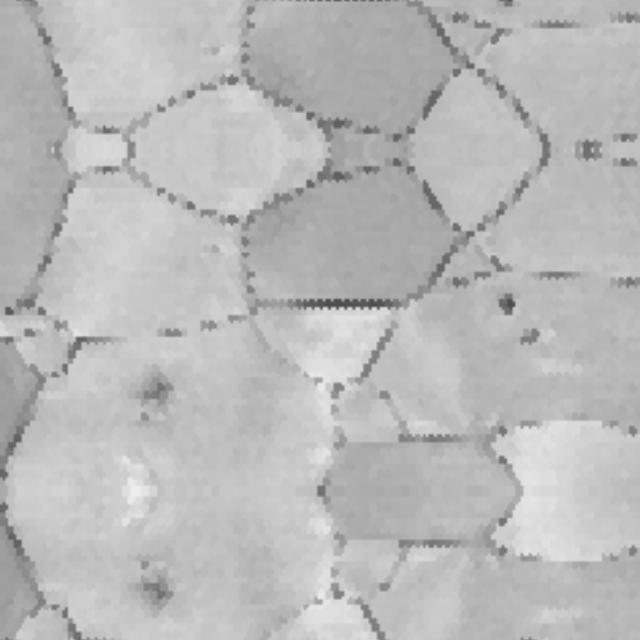good_void: (284, 293, 404, 316), (136, 558, 177, 609), (136, 373, 177, 423), (513, 326, 542, 350), (494, 292, 519, 318), (576, 149, 598, 159), (576, 139, 598, 149), (516, 632, 540, 640)
